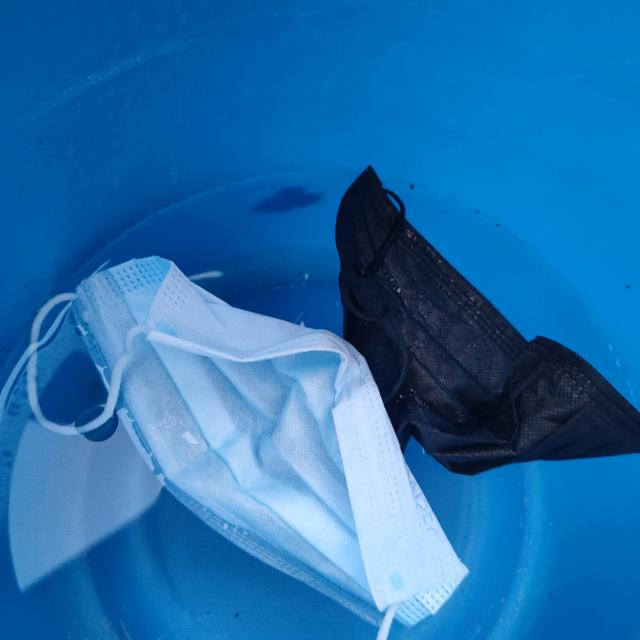litter: (17, 147, 542, 634), (10, 232, 472, 640), (290, 178, 640, 471)
